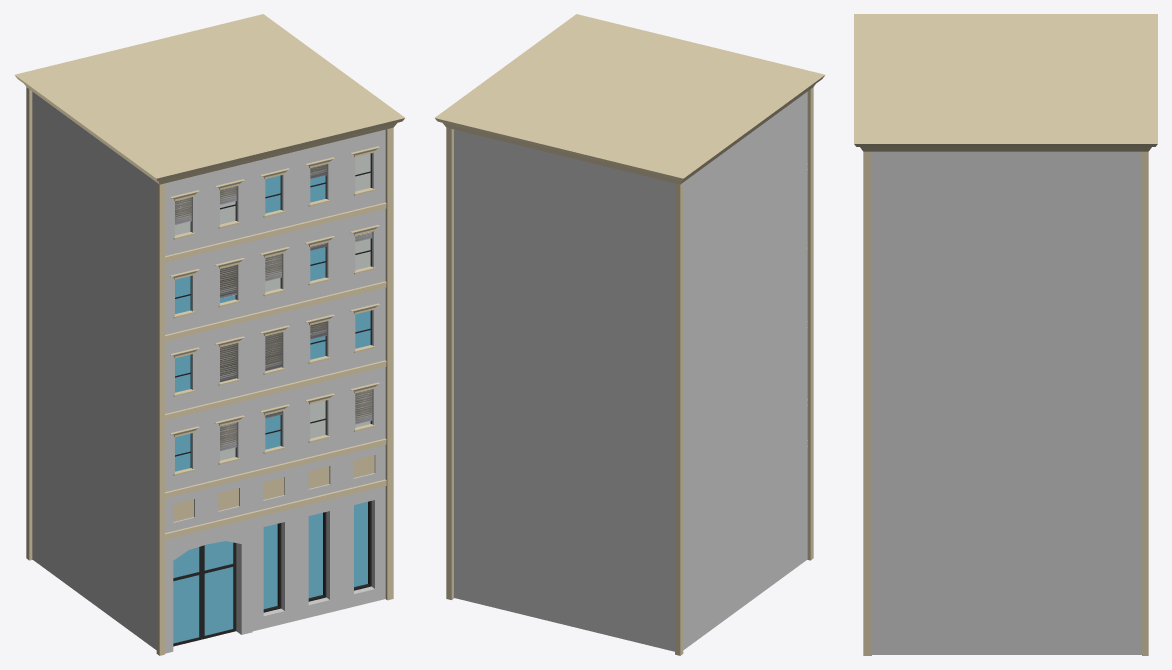
Rendered from Bloc_16F.fbx.
The picture shows the model from 3 angles, left to right: view 1: azimuth 30°, elevation 25°; view 2: azimuth 150°, elevation 25°; view 3: azimuth 270°, elevation 25°; orthographic projection. The views are drawn at different scales.
Parts seen in each view (by area): view 1: Bloc_16F; view 2: Bloc_16F; view 3: Bloc_16F.
Part boxes in pixels (box(x1,y1,x2,y2)): Bloc_16F: box(15, 14, 404, 655); Bloc_16F: box(435, 14, 824, 655); Bloc_16F: box(854, 14, 1157, 655).
Bounding box in the file's own units: 981 × 1838 × 993.
